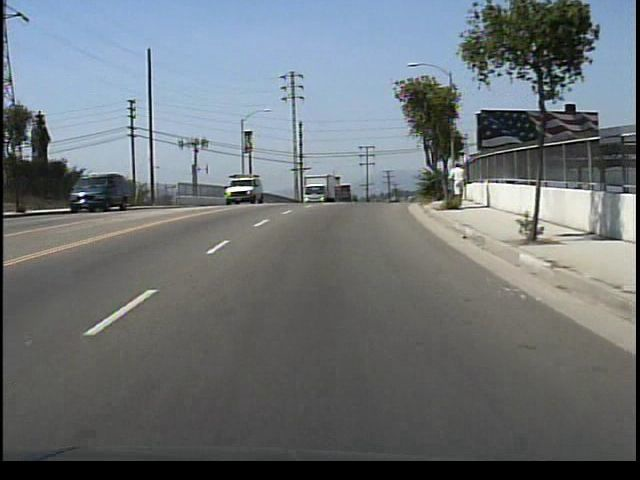person: (449, 160, 470, 197)
